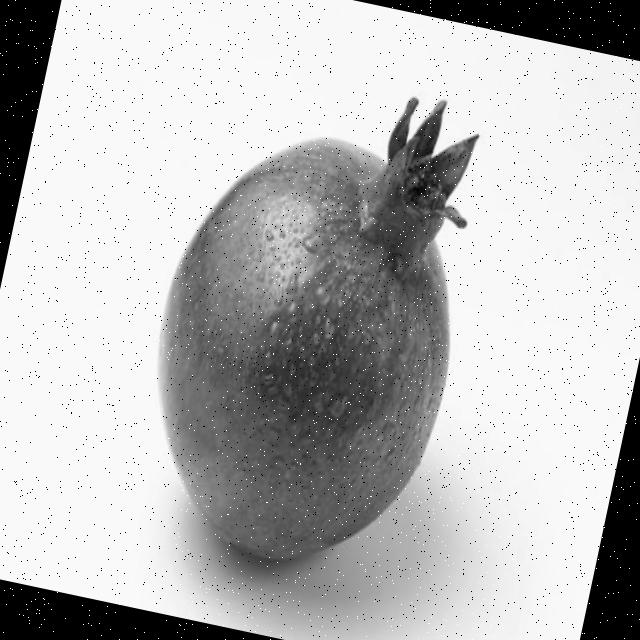Ripe: (109, 37, 508, 594)
